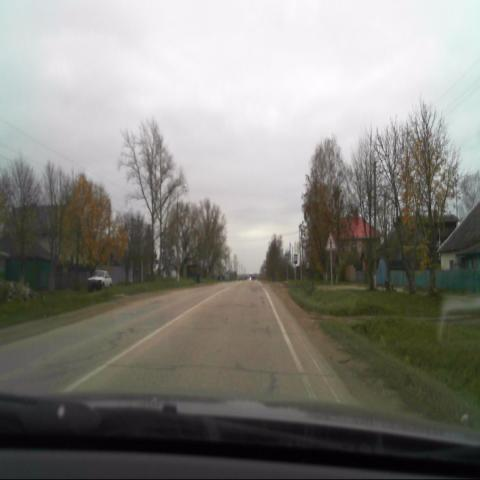2_3: (324, 230, 337, 253)
